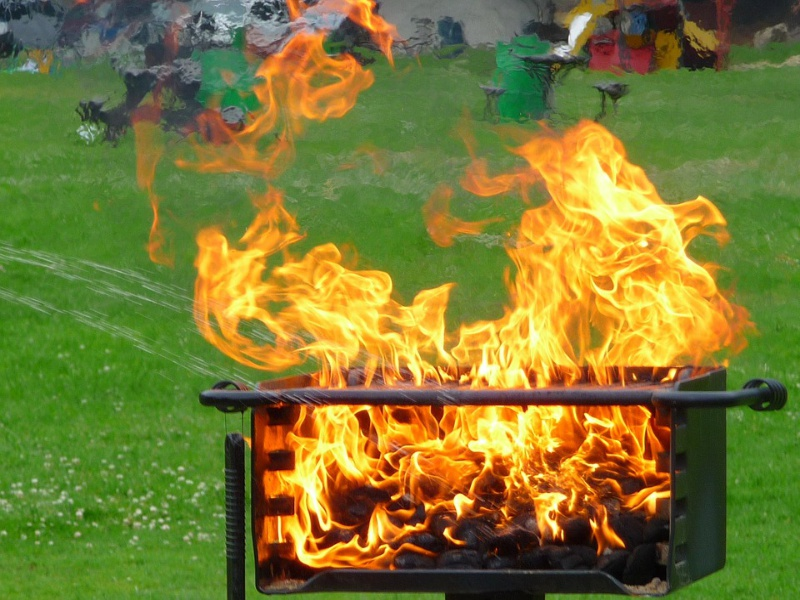fire: (460, 122, 760, 569), (193, 195, 454, 571), (176, 3, 408, 175), (120, 93, 173, 267)
